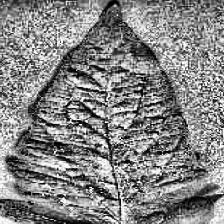spider mites: (0, 3, 221, 224)
